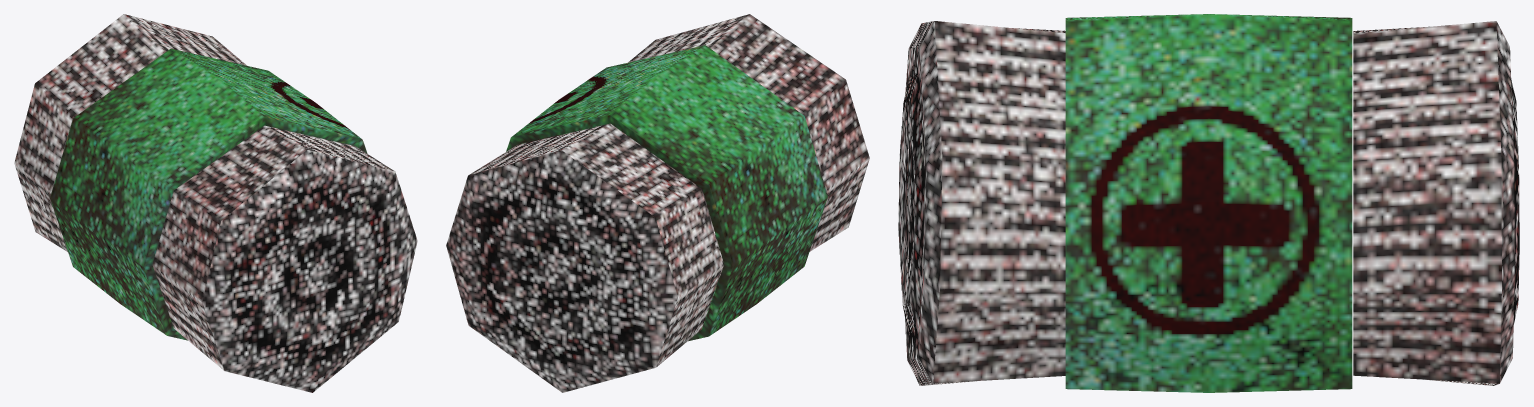
The model's file is ps1_style_health_bandage.glb.
3 views of the same model, side by side, from view 1: azimuth 30°, elevation 25°; view 2: azimuth 150°, elevation 25°; view 3: azimuth 270°, elevation 25° (orthographic). The views are drawn at different scales.
Parts seen in each view (by area): view 1: Bandage_01 - Default_0, Paper_01 - Default_0; view 2: Bandage_01 - Default_0, Paper_01 - Default_0; view 3: Bandage_01 - Default_0, Paper_01 - Default_0.
Part boxes in pixels (left/top/right/bottom): Bandage_01 - Default_0: left=14, top=14, right=417, bottom=392; Paper_01 - Default_0: left=50, top=48, right=367, bottom=340; Bandage_01 - Default_0: left=446, top=14, right=869, bottom=392; Paper_01 - Default_0: left=506, top=45, right=827, bottom=341; Bandage_01 - Default_0: left=898, top=21, right=1519, bottom=385; Paper_01 - Default_0: left=1065, top=14, right=1352, bottom=392.
Size of the model in its own units: 0.1329 by 0.1307 by 0.1945.
1 material, 1 textured.
